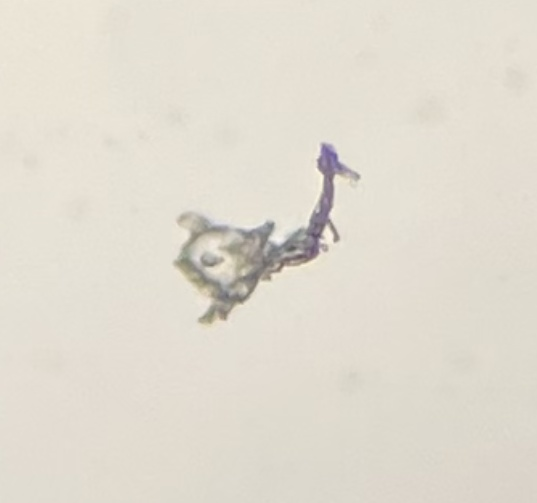microplastic: (173, 142, 361, 324)
